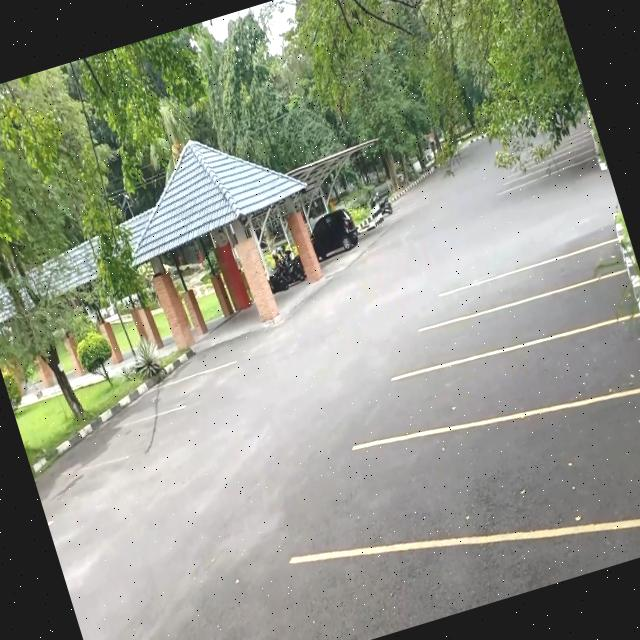empty: (408, 373, 640, 561), (408, 305, 640, 456), (420, 267, 640, 378), (443, 238, 628, 324), (120, 369, 215, 424)
